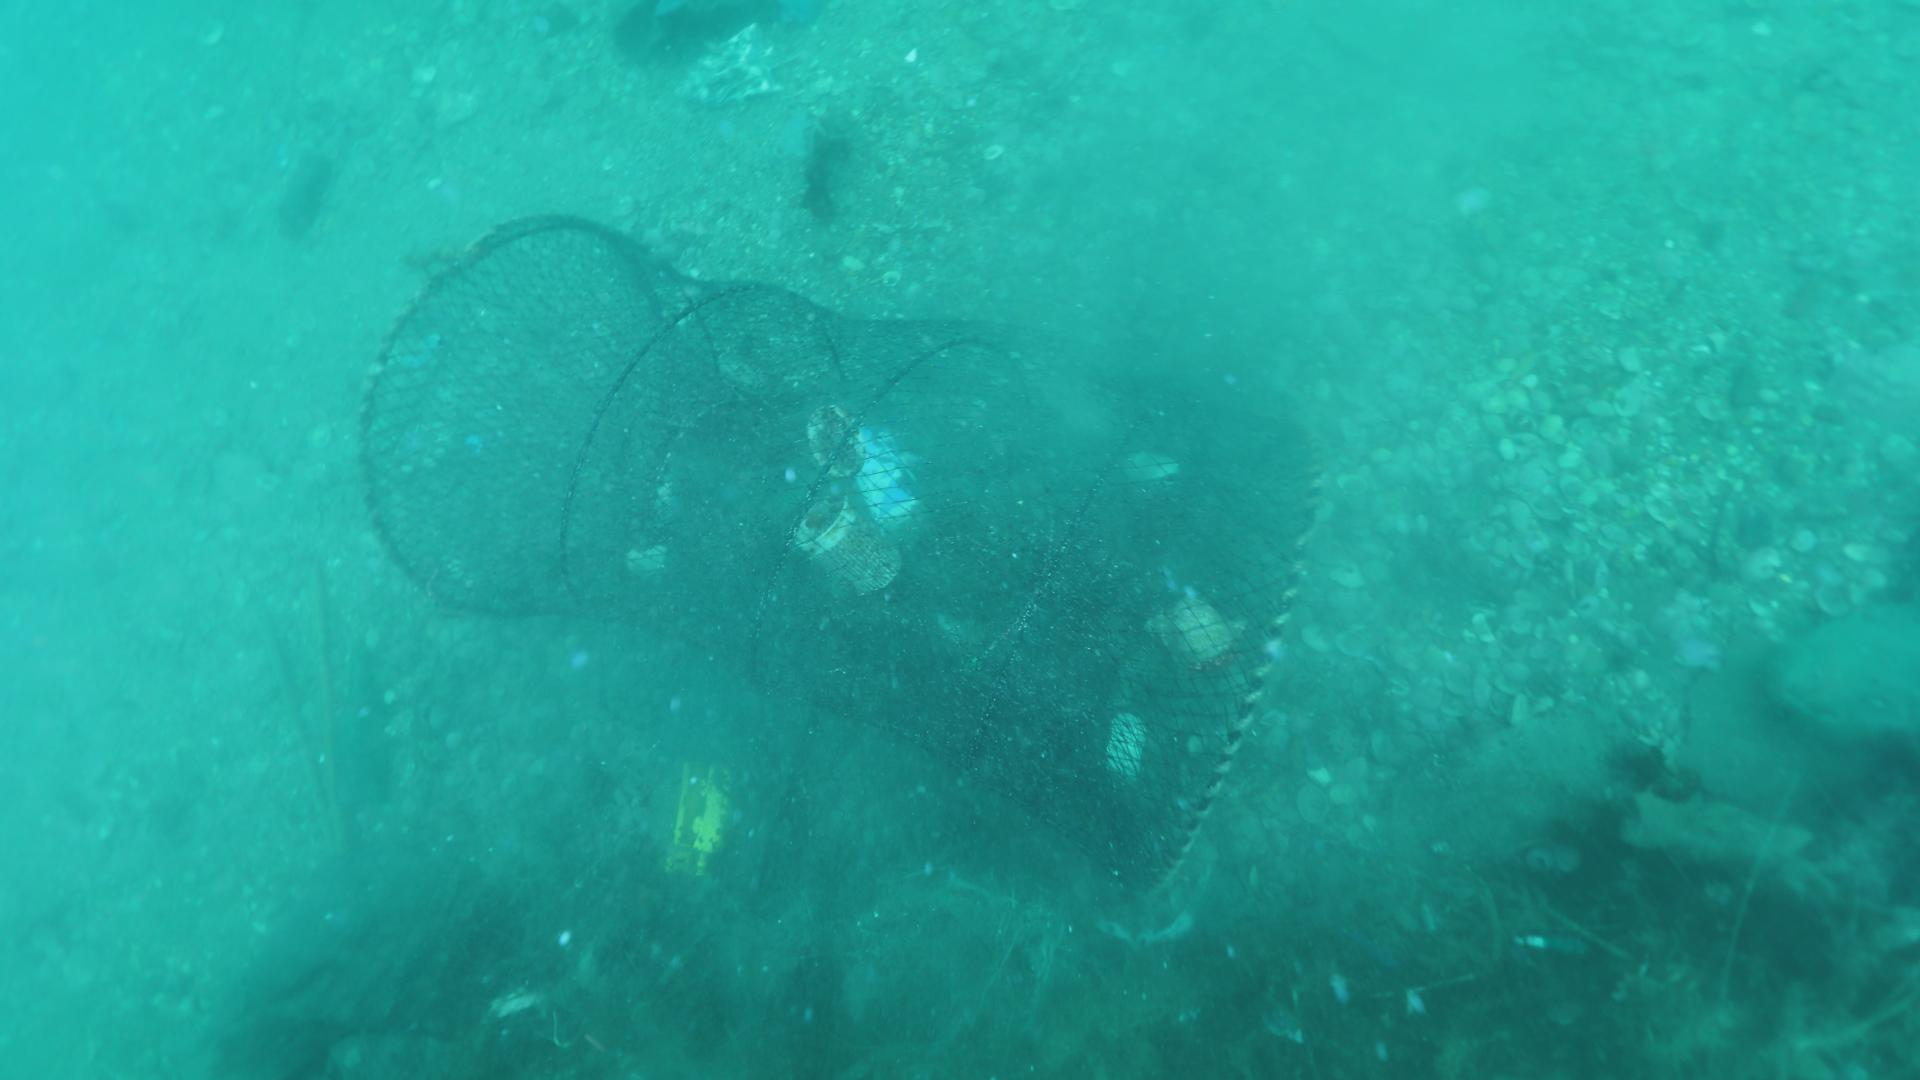spring fish trap: (353, 214, 1329, 906)
